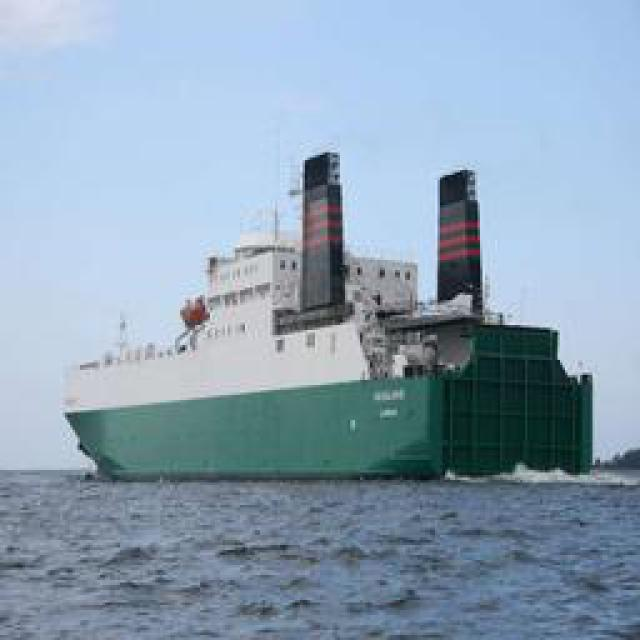Ship: (68, 122, 543, 470)
